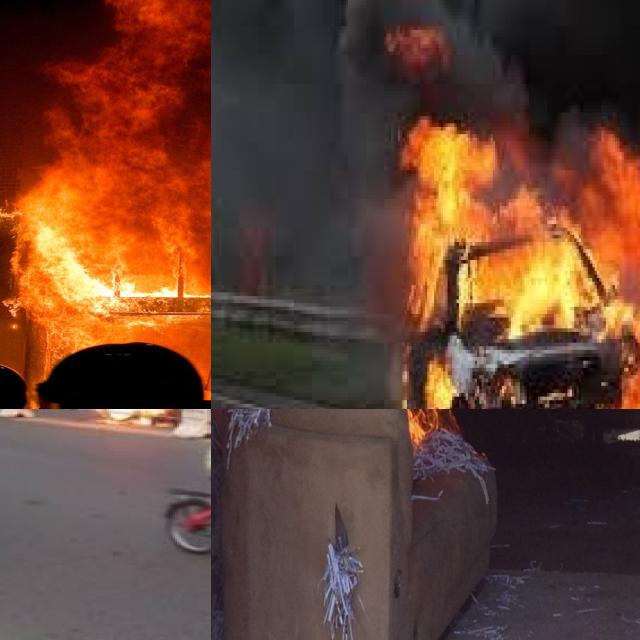fire: (7, 0, 211, 372), (395, 112, 640, 409)
smoke: (211, 0, 393, 317), (398, 0, 640, 112)
